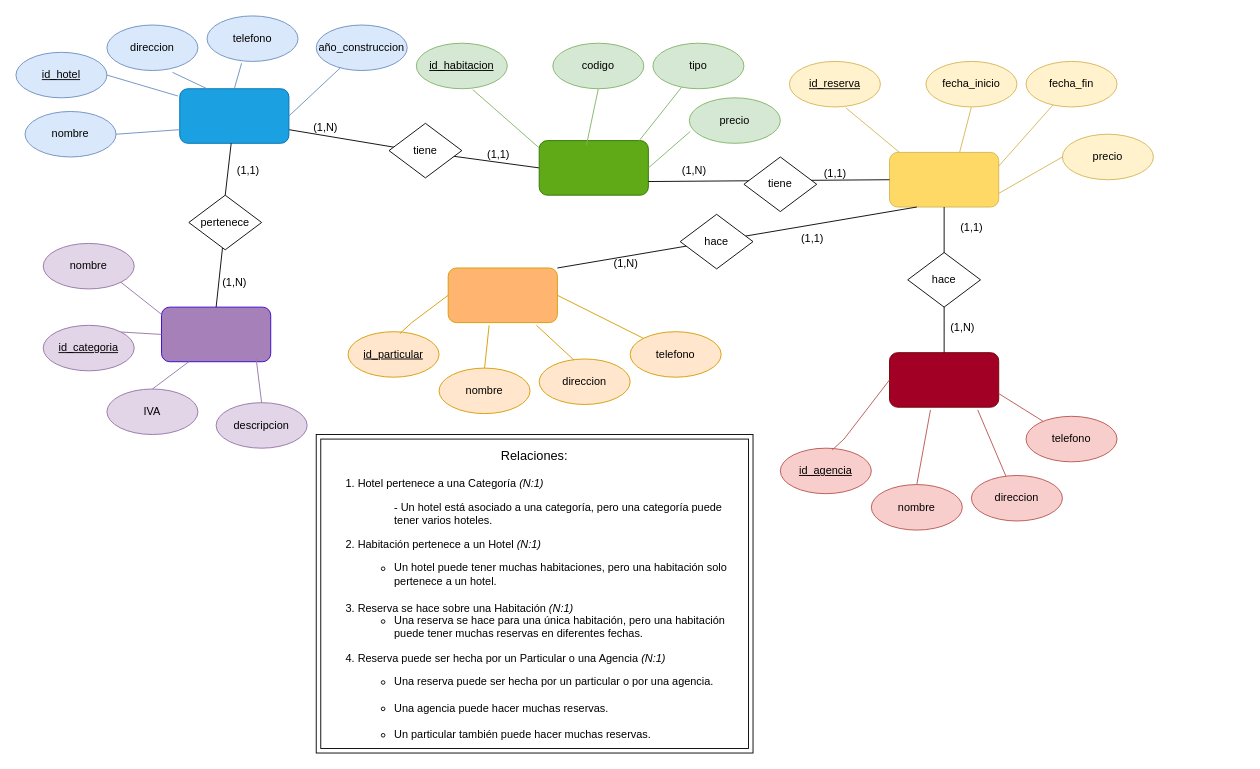
Image size: 1260x769. Some labels were removed from this diagram. Here are the shapes that lost their labels. From the top down, the centre of each, then its label:
At point (234, 115): "Hotel".
At point (593, 167): "Habitacion".
At point (944, 179): "Reserva".
At point (502, 295): "Particular".
At point (216, 334): "Categoria".
At point (944, 379): "Agencia".
